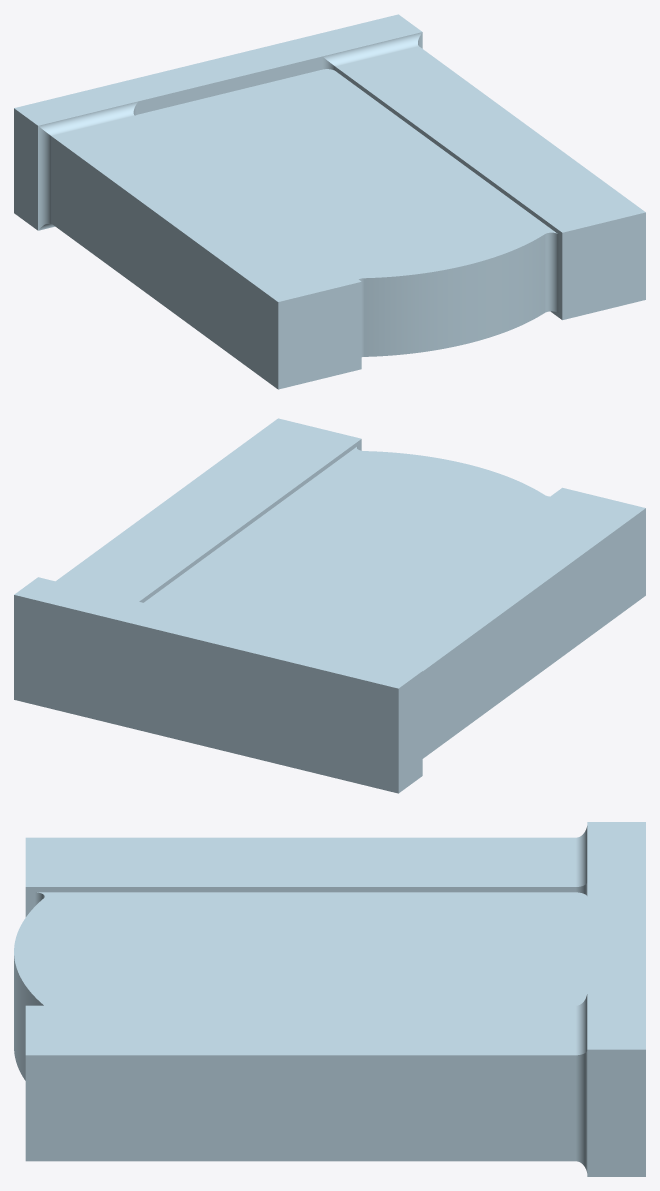
The picture shows the model from 3 angles, top to bottom: view 1: azimuth 30°, elevation 25°; view 2: azimuth 150°, elevation 25°; view 3: azimuth 270°, elevation 25°; orthographic projection. The views are drawn at different scales.
Visible parts, largest first — view 1: PA-290-F_LOD0; view 2: PA-290-F_LOD0; view 3: PA-290-F_LOD0.
Boxes of the visible parts, <box> form: PA-290-F_LOD0: <box>14,14,645,389</box>; PA-290-F_LOD0: <box>14,418,645,793</box>; PA-290-F_LOD0: <box>14,822,645,1176</box>.
Size of what is drawn, in the model's own units: 117 by 30.48 by 137.
